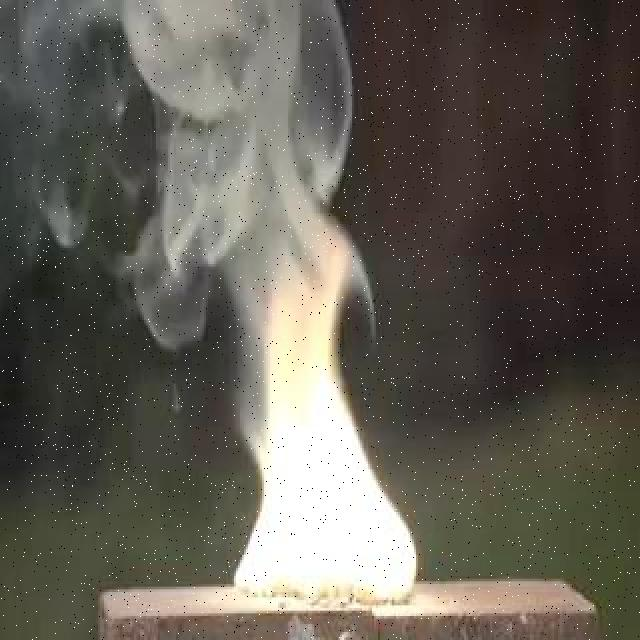fire: (249, 413, 417, 614)
smoke: (70, 7, 379, 310)
